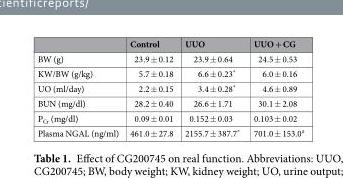table: (36, 37, 303, 138)
table column: (36, 37, 123, 138), (178, 37, 246, 138), (246, 37, 303, 138), (123, 37, 178, 138)
table column header: (36, 37, 303, 50)
table row: (36, 50, 303, 65), (36, 65, 303, 80), (36, 80, 303, 95), (36, 95, 303, 110), (36, 110, 303, 125), (36, 37, 303, 50), (36, 125, 303, 138)
